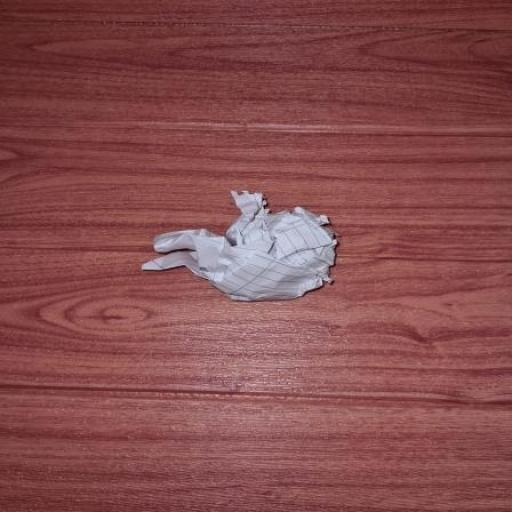paper: (120, 191, 363, 315)
